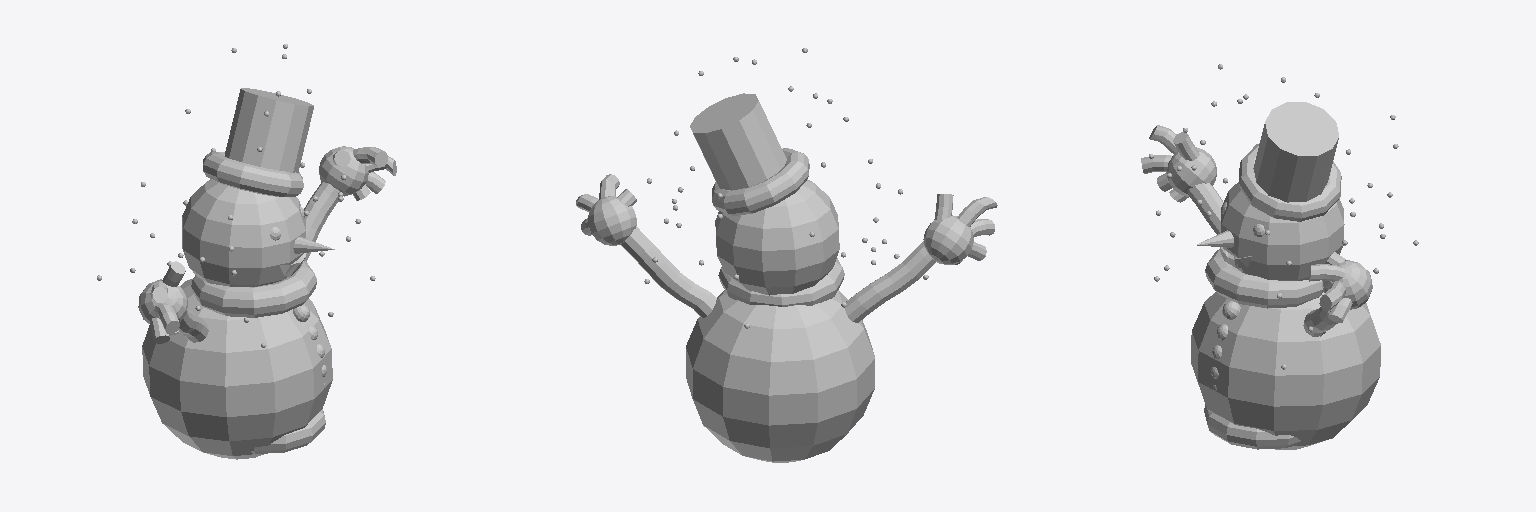
The model's file is snowman.obj.
The picture shows the model from 3 angles: view 1: azimuth 30°, elevation 25°; view 2: azimuth 150°, elevation 25°; view 3: azimuth 270°, elevation 25°; orthographic projection.
Visible parts, largest first — view 1: group[number redacted], group[number redacted], group[number redacted], group[number redacted], group[number redacted], group[number redacted], group[number redacted], group[number redacted], group[number redacted], group[number redacted], group[number redacted]; view 2: group[number redacted], group[number redacted], group[number redacted], group[number redacted], group[number redacted], group[number redacted], group[number redacted], group[number redacted], group[number redacted], group[number redacted]; view 3: group[number redacted], group[number redacted], group[number redacted], group[number redacted], group[number redacted], group[number redacted], group[number redacted], group[number redacted], group[number redacted], group[number redacted], group[number redacted].
Part boxes in pixels (left/top/right/bottom): group[number redacted]: left=142, top=279, right=332, bottom=459; group[number redacted]: left=182, top=179, right=305, bottom=286; group[number redacted]: left=225, top=88, right=313, bottom=172; group[number redacted]: left=191, top=261, right=316, bottom=317; group[number redacted]: left=203, top=152, right=303, bottom=196; group[number redacted]: left=319, top=146, right=368, bottom=196; group[number redacted]: left=304, top=181, right=339, bottom=261; group[number redacted]: left=250, top=409, right=325, bottom=453; group[number redacted]: left=138, top=279, right=187, bottom=323; group[number redacted]: left=179, top=310, right=208, bottom=342; group[number redacted]: left=353, top=147, right=387, bottom=166; group[number redacted]: left=686, top=290, right=874, bottom=462; group[number redacted]: left=715, top=179, right=839, bottom=295; group[number redacted]: left=690, top=93, right=786, bottom=190; group[number redacted]: left=712, top=148, right=809, bottom=215; group[number redacted]: left=621, top=226, right=716, bottom=317; group[number redacted]: left=845, top=241, right=935, bottom=322; group[number redacted]: left=718, top=258, right=844, bottom=306; group[number redacted]: left=923, top=215, right=973, bottom=264; group[number redacted]: left=588, top=196, right=636, bottom=245; group[number redacted]: left=957, top=197, right=997, bottom=226; group[number redacted]: left=1191, top=292, right=1380, bottom=449; group[number redacted]: left=1221, top=182, right=1344, bottom=280; group[number redacted]: left=1253, top=102, right=1338, bottom=202; group[number redacted]: left=1205, top=249, right=1323, bottom=308; group[number redacted]: left=1239, top=143, right=1341, bottom=221; group[number redacted]: left=1204, top=404, right=1300, bottom=449; group[number redacted]: left=1167, top=147, right=1216, bottom=196; group[number redacted]: left=1323, top=260, right=1372, bottom=309; group[number redacted]: left=1188, top=183, right=1223, bottom=234; group[number redacted]: left=1303, top=307, right=1337, bottom=336; group[number redacted]: left=1309, top=264, right=1345, bottom=281.
Bounding box in the file's own units: 1.37 × 1.52 × 0.9873.